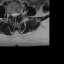CCS_normal: (13, 10, 15, 19)
LFS_normal: (17, 9, 19, 17)
LLS_normal: (15, 11, 17, 18)
RFS_normal: (9, 11, 11, 18)
RLS_normal: (11, 10, 13, 18)
